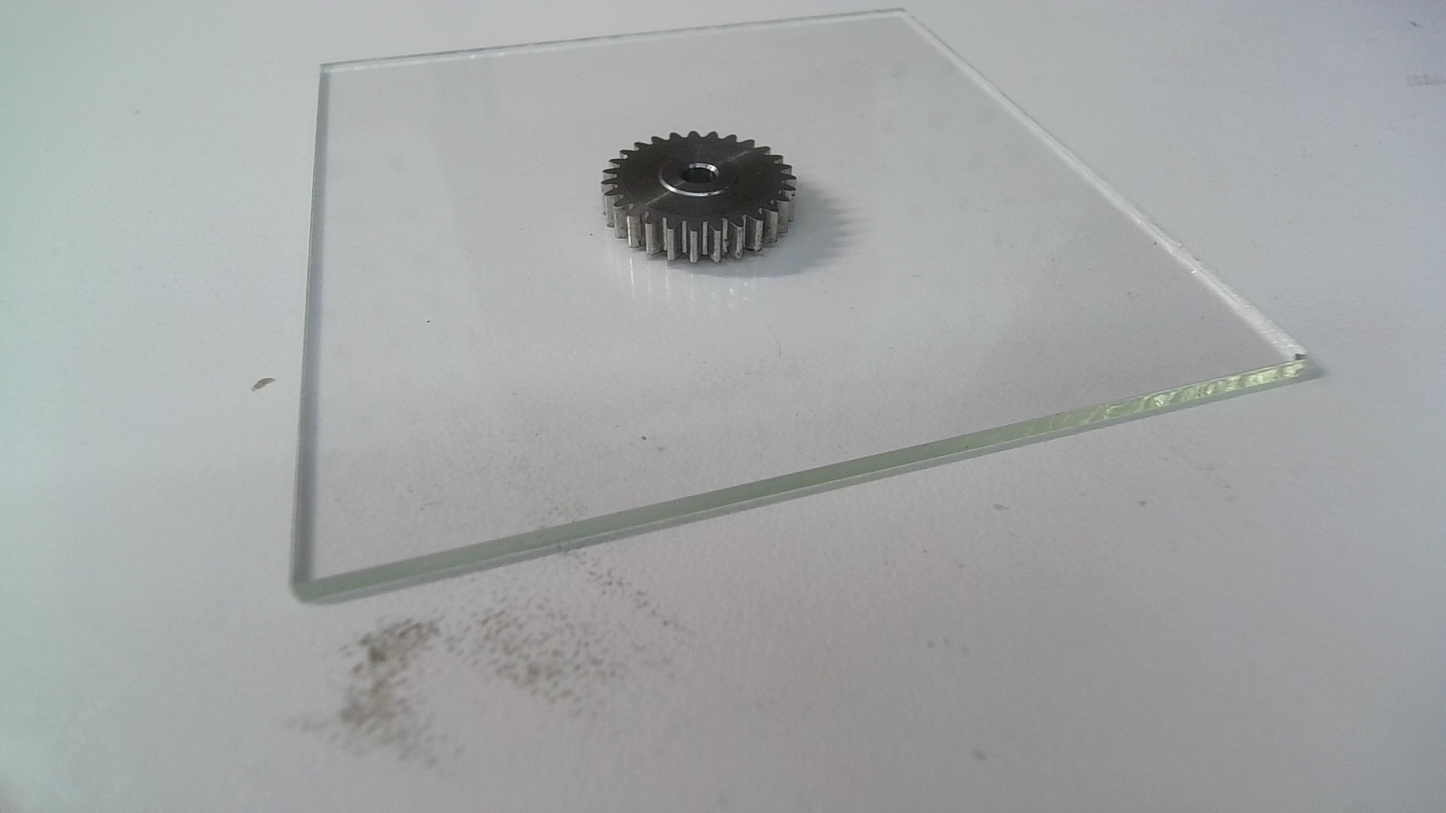gear: (598, 129, 799, 266)
